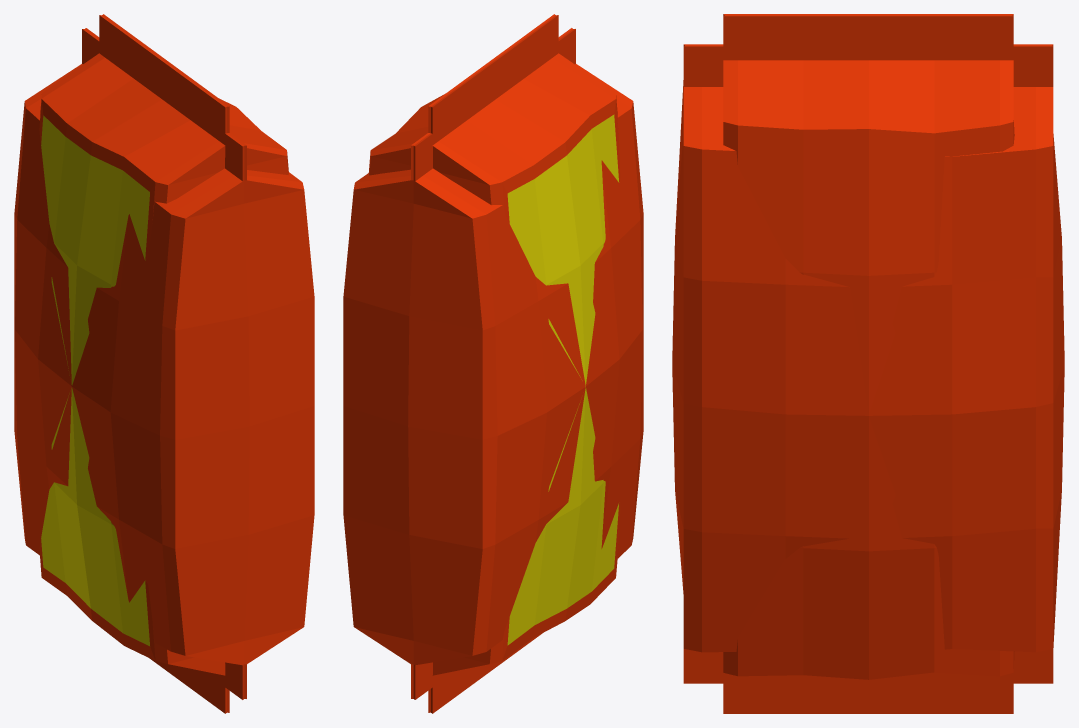
Rendered from Patatas_Low_Poly_3.fbx.
The picture shows the model from 3 angles, left to right: view 1: azimuth 30°, elevation 25°; view 2: azimuth 150°, elevation 25°; view 3: azimuth 270°, elevation 25°; orthographic projection. The views are drawn at different scales.
Visible parts, largest first — view 1: Cube, Cube.001; view 2: Cube, Cube.001; view 3: Cube, Cube.001.
Part boxes in pixels (<box>): Cube: <box>14,28,314,699</box>; Cube.001: <box>39,14,288,713</box>; Cube: <box>343,28,643,699</box>; Cube.001: <box>368,14,620,713</box>; Cube: <box>672,44,1064,683</box>; Cube.001: <box>723,14,1014,713</box>.
Size of the model in its own units: 13.28 by 41.62 by 21.23.
